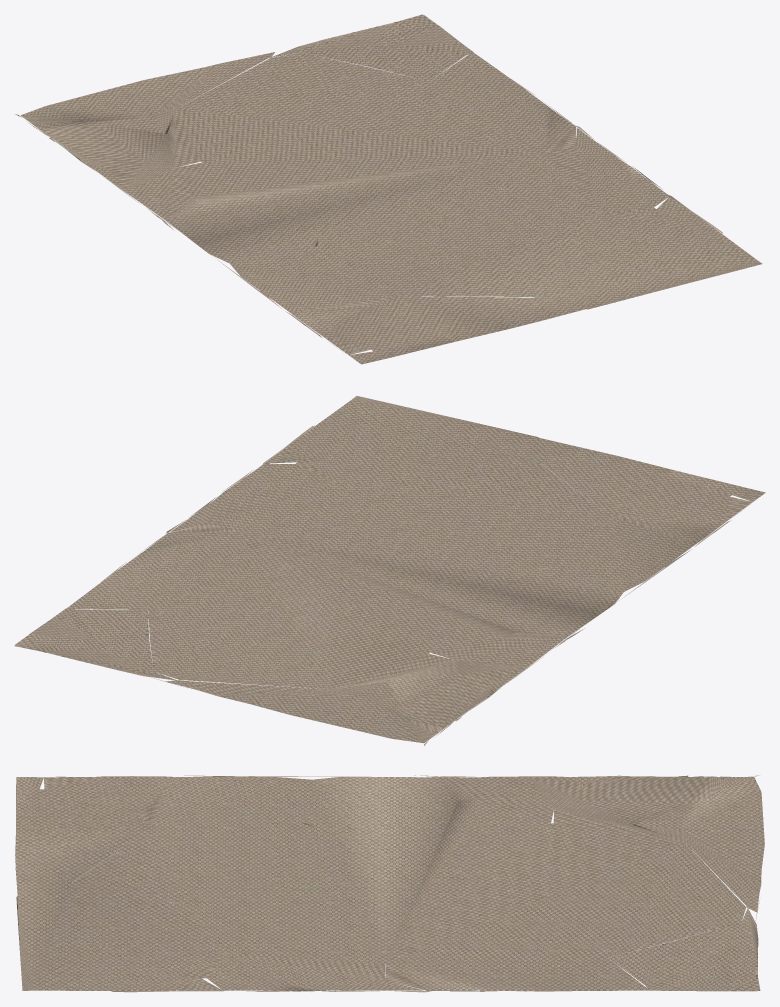
The picture shows the model from 3 angles, top to bottom: view 1: azimuth 30°, elevation 25°; view 2: azimuth 150°, elevation 25°; view 3: azimuth 270°, elevation 25°; orthographic projection. The views are drawn at different scales.
Parts seen in each view (by area): view 1: morum-160; view 2: morum-160; view 3: morum-160.
Part boxes in pixels (x1,y1,x2,y2): morum-160: (15, 14, 762, 364); morum-160: (14, 396, 765, 745); morum-160: (15, 775, 764, 992).
Size of the model in its own units: 1.6 by 0.00371 by 2.33.
1 material, 1 textured.
